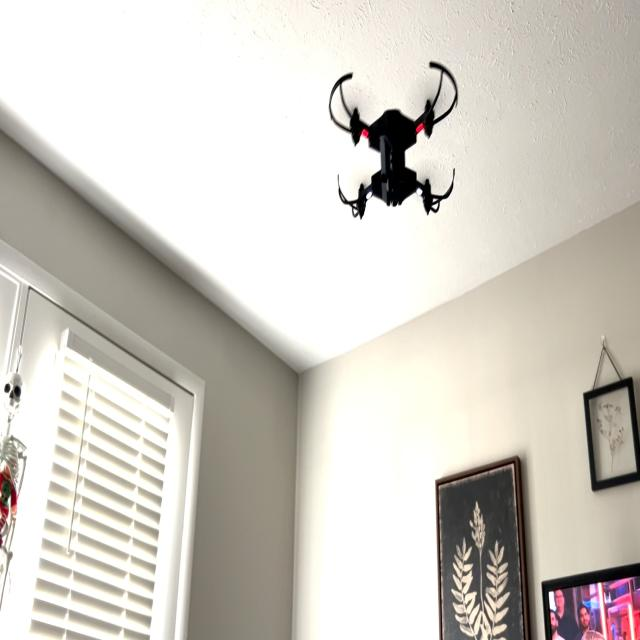drone: (322, 49, 467, 236)
